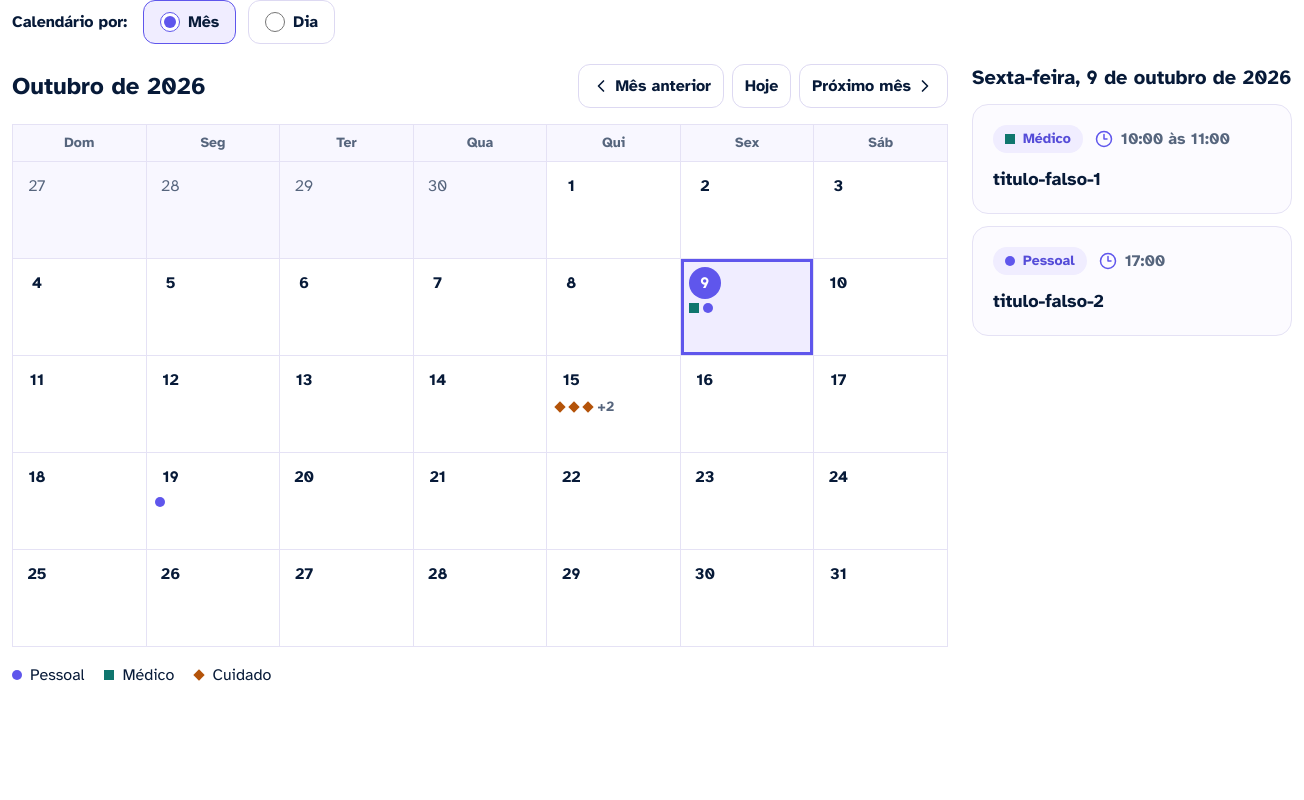
Test case: Calendario: visão Mês › painel mostra o dia de hoje e troca ao selecionar outro dia
Expected: the text "titulo-falso-1" is shown, [993,168,1101,190]
Expected: the text "titulo-falso-2" is shown, [993,290,1104,312]
Click the button named "1 de outubro": (614, 210) [547,162,680,258]
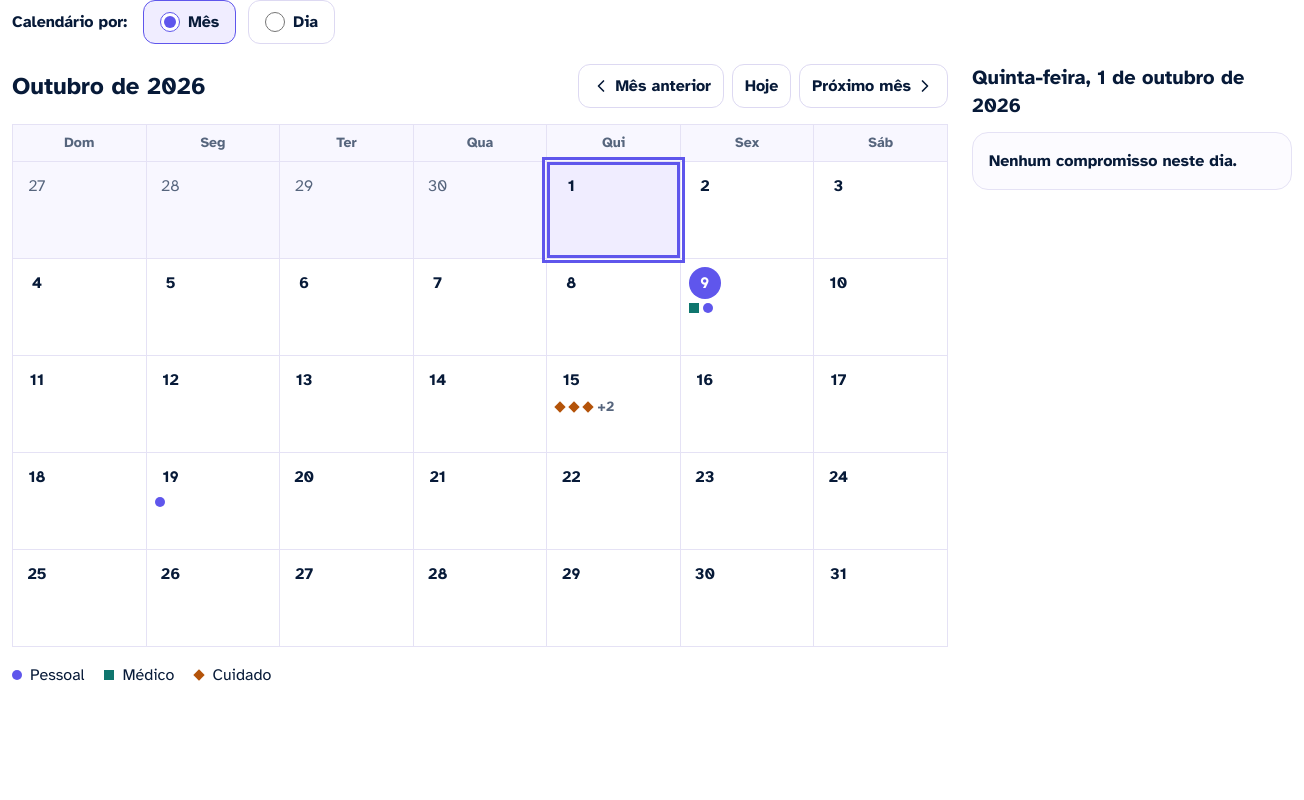
Now the element "Quinta-feira, 1 de outubro de 2026" shows "Nenhum compromisso neste dia.", box [989,151,1237,171]
